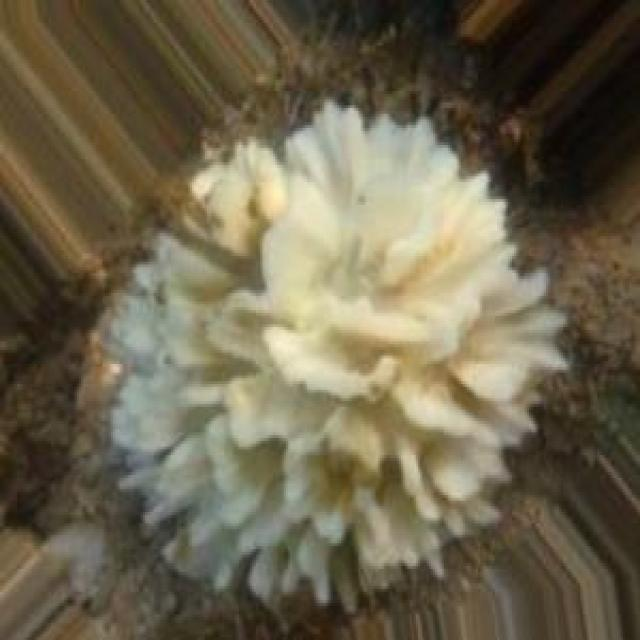Bleached: (108, 109, 564, 613)
